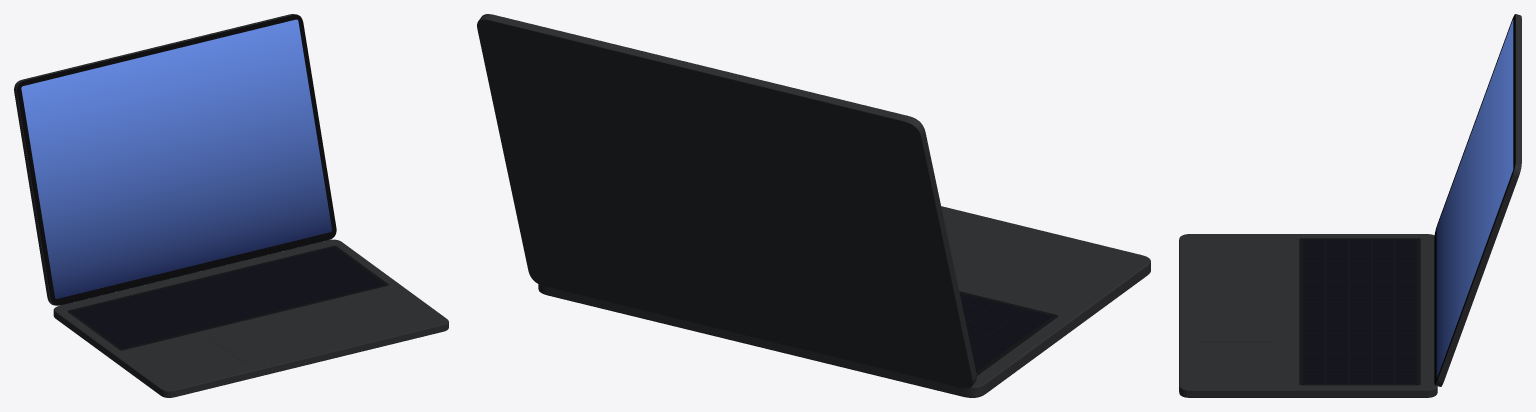
File: AS-VIVO15OLED.glb
3 renders of one model, left to right at view 1: azimuth 30°, elevation 25°; view 2: azimuth 150°, elevation 25°; view 3: azimuth 270°, elevation 25°, orthographic. The views are drawn at different scales.
Parts seen in each view (by area): view 1: screen, base, keys, bezel, trackpad, keyboard, lid; view 2: lid, base, keys, trackpad, keyboard; view 3: base, keys, screen, trackpad, keyboard, lid, bezel.
Part boxes in pixels (bbox=[...]): screen: bbox=[21, 19, 331, 298]; base: bbox=[53, 239, 448, 397]; keys: bbox=[71, 247, 384, 348]; bezel: bbox=[17, 14, 336, 305]; trackpad: bbox=[212, 313, 354, 364]; keyboard: bbox=[67, 245, 388, 350]; lid: bbox=[14, 14, 336, 305]; lid: bbox=[477, 14, 976, 388]; base: bbox=[538, 206, 1150, 397]; keys: bbox=[959, 293, 1051, 371]; trackpad: bbox=[944, 218, 1004, 270]; keyboard: bbox=[959, 291, 1057, 375]; base: bbox=[1179, 234, 1437, 397]; keys: bbox=[1303, 239, 1416, 383]; screen: bbox=[1436, 19, 1513, 377]; trackpad: bbox=[1197, 282, 1274, 341]; keyboard: bbox=[1299, 238, 1420, 385]; lid: bbox=[1435, 14, 1521, 386]; bezel: bbox=[1434, 14, 1515, 384].
Bounding box in the file's own units: 0.3536 × 0.244 × 0.3274.
